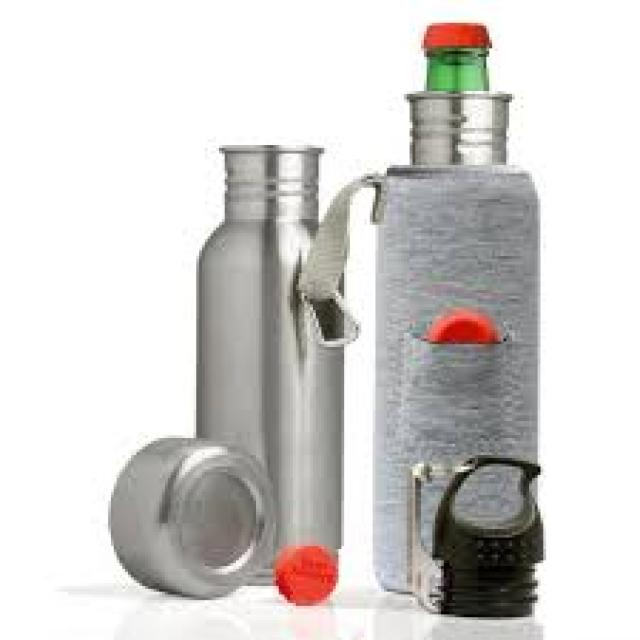glass: (421, 49, 486, 86)
metal: (188, 222, 336, 589), (106, 436, 268, 598), (216, 142, 319, 219), (404, 88, 509, 157)
plastic: (430, 453, 544, 618), (273, 538, 336, 600), (427, 310, 498, 339)
